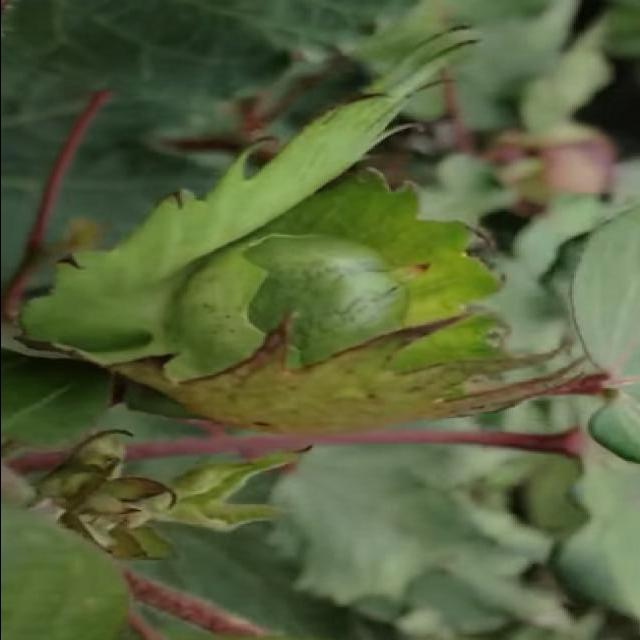Early Boll: (162, 172, 512, 424)
